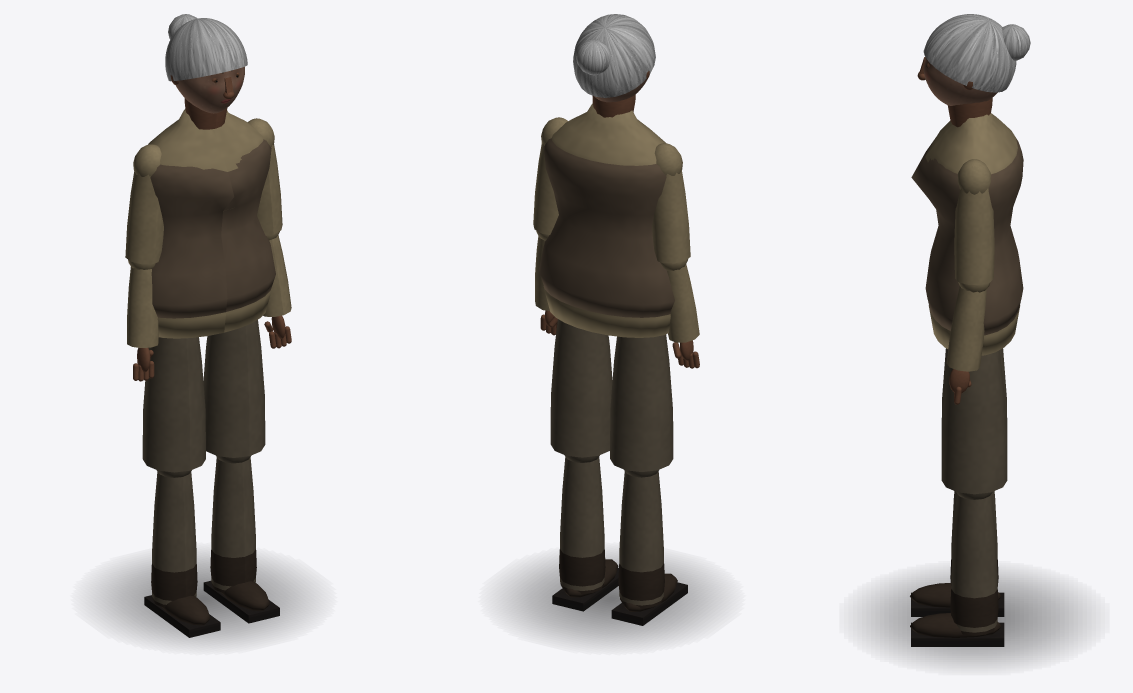
The model's file is npc_settler_d.glb.
The picture shows the model from 3 angles, left to right: view 1: azimuth 30°, elevation 25°; view 2: azimuth 150°, elevation 25°; view 3: azimuth 270°, elevation 25°; orthographic projection. The views are drawn at different scales.
Visible parts, largest first — view 1: chest, object 11, legL, legR, shinL, shinR, head, armL, foreL, foreR, armR; view 2: chest, object 11, legL, legR, shinL, shinR, head, armL, foreL, armR, foreR; view 3: chest, object 11, shinR, legR, head, armR, foreR, shinL, legL.
Part boxes in pixels (x1=…): chest: x1=148, y1=98, x2=275, y2=338; object 11: x1=97, y1=554, x2=309, y2=643; legL: x1=142, y1=337, x2=205, y2=472; legR: x1=203, y1=320, x2=265, y2=457; shinL: x1=144, y1=470, x2=220, y2=637; shinR: x1=203, y1=455, x2=279, y2=623; head: x1=165, y1=14, x2=247, y2=113; armL: x1=125, y1=144, x2=163, y2=264; foreL: x1=127, y1=260, x2=158, y2=381; foreR: x1=263, y1=231, x2=291, y2=348; armR: x1=248, y1=118, x2=282, y2=235; chest: x1=539, y1=95, x2=674, y2=337; object 11: x1=506, y1=554, x2=718, y2=643; legL: x1=610, y1=334, x2=673, y2=471; legR: x1=550, y1=319, x2=612, y2=457; shinL: x1=611, y1=469, x2=687, y2=625; shinR: x1=552, y1=455, x2=618, y2=611; head: x1=573, y1=14, x2=655, y2=102; armL: x1=652, y1=143, x2=690, y2=263; foreL: x1=660, y1=259, x2=699, y2=368; armR: x1=533, y1=117, x2=567, y2=234; foreR: x1=535, y1=230, x2=557, y2=335; chest: x1=911, y1=98, x2=1023, y2=355; object 11: x1=866, y1=573, x2=1082, y2=663; shinR: x1=910, y1=492, x2=1004, y2=646; legR: x1=941, y1=350, x2=1007, y2=494; head: x1=917, y1=14, x2=1030, y2=105; armR: x1=954, y1=159, x2=994, y2=284; foreR: x1=946, y1=282, x2=990, y2=404; shinL: x1=910, y1=491, x2=1004, y2=616; legL: x1=941, y1=348, x2=1007, y2=447.
Bounding box in the file's own units: 0.77 × 1.79 × 0.77.
6 materials, 5 textured.
